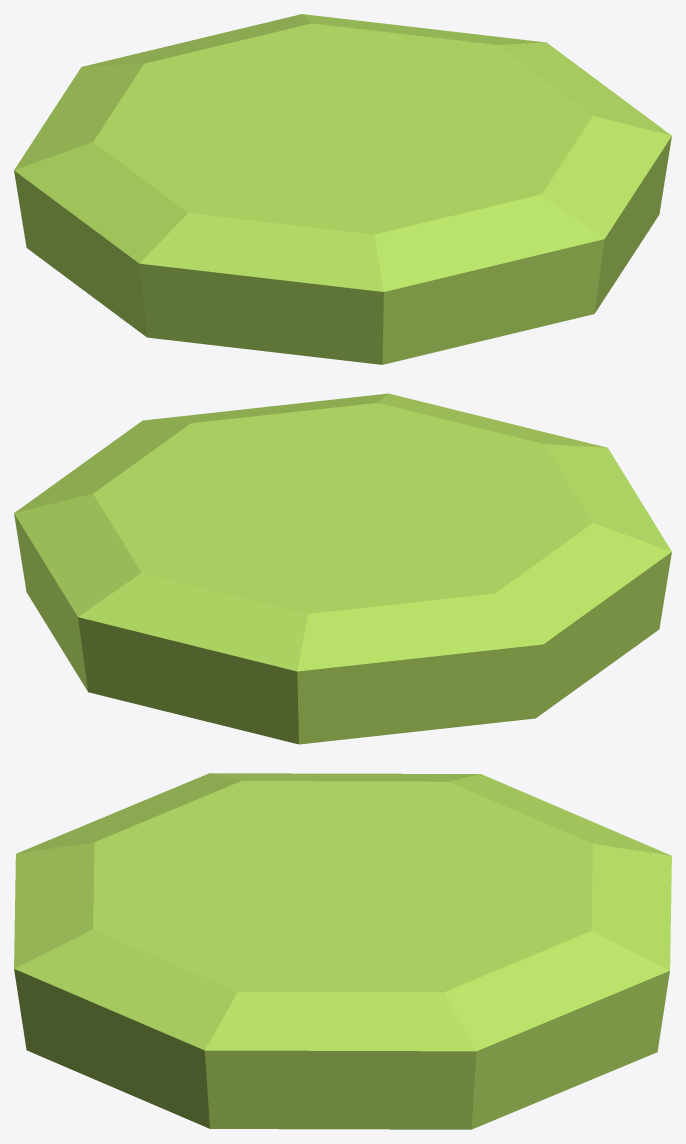
The model's file is LOW cauldron ing proto.fbx.
3 views of the same model, one above another, from view 1: azimuth 30°, elevation 25°; view 2: azimuth 150°, elevation 25°; view 3: azimuth 270°, elevation 25° (orthographic). The views are drawn at different scales.
Parts seen in each view (by area): view 1: ing cauldron high; view 2: ing cauldron high; view 3: ing cauldron high.
Part boxes in pixels (<box>): ing cauldron high: <box>14,14,671,364</box>; ing cauldron high: <box>14,393,671,744</box>; ing cauldron high: <box>14,773,671,1129</box>.
Size of the model in its own units: 1.49 by 1.49 by 0.2827.
